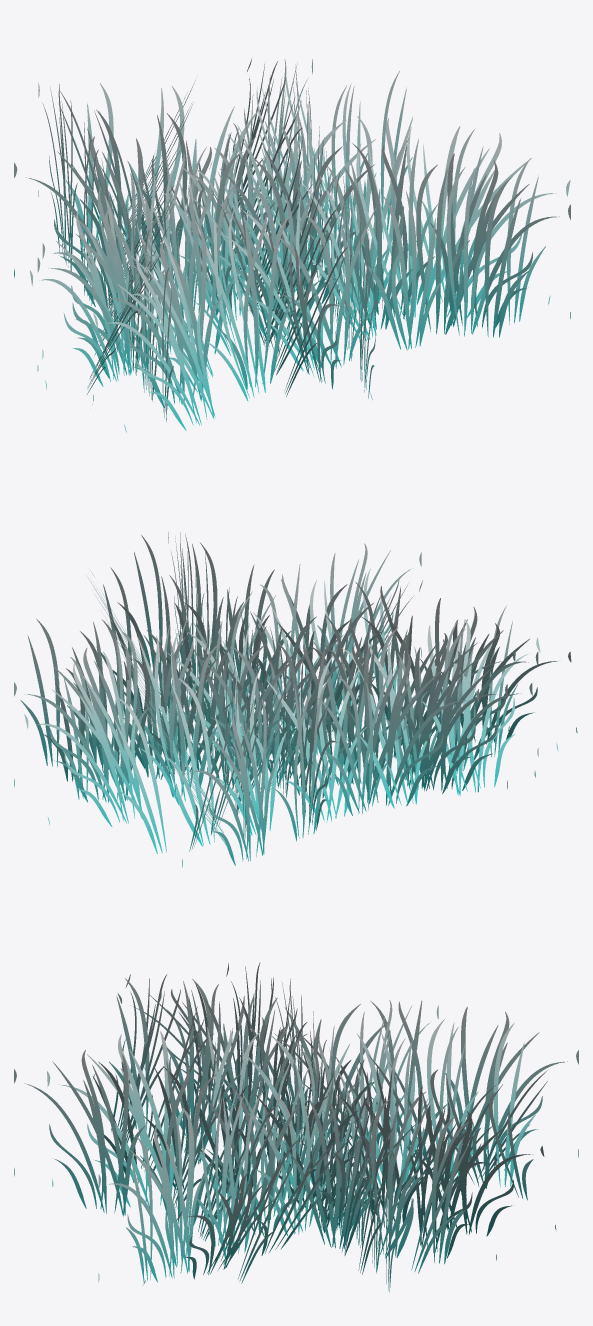
The model's file is GrassPatch_Mid_A.FBX.
3 views of the same model, one above another, from view 1: azimuth 30°, elevation 25°; view 2: azimuth 150°, elevation 25°; view 3: azimuth 270°, elevation 25° (orthographic). The views are drawn at different scales.
Visible parts, largest first — view 1: GrassPatch_Mid_A; view 2: GrassPatch_Mid_A; view 3: GrassPatch_Mid_A.
Part boxes in pixels (left/top/right/bottom): GrassPatch_Mid_A: left=14, top=59, right=570, bottom=432; GrassPatch_Mid_A: left=14, top=532, right=577, bottom=867; GrassPatch_Mid_A: left=14, top=962, right=578, bottom=1292.
Bounding box in the file's own units: 2.19 × 0.7599 × 2.16.
